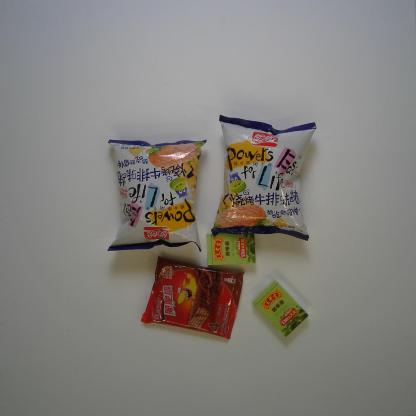Candy: (252, 279, 309, 338), (206, 232, 256, 266)
Dessert: (140, 255, 245, 340)
Puffed Food: (210, 114, 317, 242), (107, 139, 207, 252)
